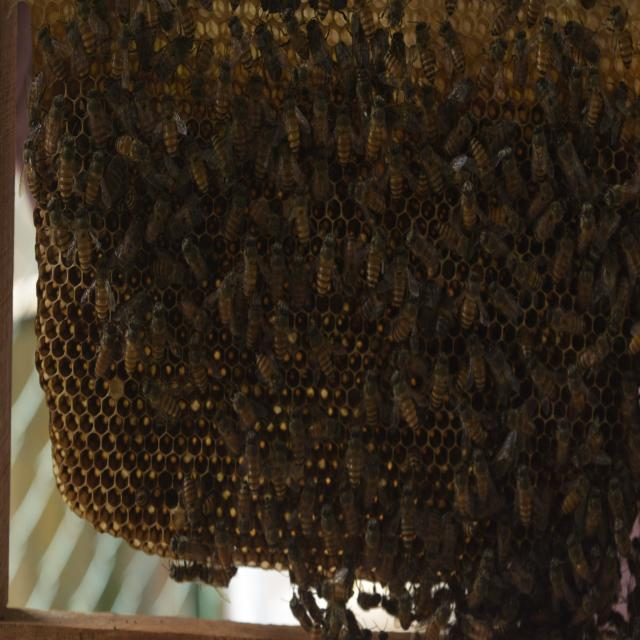honeybee: (176, 225, 212, 288), (103, 17, 141, 76), (97, 304, 118, 410), (283, 409, 314, 479), (558, 125, 592, 188), (183, 322, 214, 391), (82, 138, 113, 206), (455, 394, 490, 453), (392, 219, 434, 268), (119, 198, 155, 255), (226, 385, 263, 438), (20, 136, 46, 211), (299, 329, 340, 375), (88, 73, 116, 140), (608, 8, 638, 70), (610, 192, 633, 272), (174, 475, 210, 525), (111, 78, 141, 137), (253, 354, 295, 396), (284, 65, 330, 103), (224, 12, 252, 74), (337, 90, 359, 168), (357, 239, 389, 292), (211, 513, 241, 569), (564, 13, 592, 73), (520, 120, 551, 174), (542, 296, 586, 334), (462, 124, 494, 175), (160, 88, 182, 162), (391, 367, 416, 432), (62, 18, 90, 76), (270, 442, 296, 504), (243, 186, 278, 232), (507, 243, 541, 290), (545, 546, 569, 612), (207, 131, 238, 182), (480, 334, 511, 385), (82, 267, 114, 316), (491, 192, 523, 241), (213, 54, 236, 122), (180, 138, 214, 184), (476, 40, 506, 92), (136, 396, 174, 436), (381, 34, 412, 83), (151, 296, 172, 368), (61, 131, 79, 214), (559, 336, 590, 384), (499, 142, 525, 199), (546, 409, 578, 455), (490, 424, 518, 476), (595, 555, 621, 611), (272, 292, 294, 358), (349, 182, 383, 224), (179, 0, 210, 46), (307, 21, 340, 64), (384, 160, 411, 212), (509, 457, 532, 518), (458, 162, 478, 232), (316, 222, 334, 298), (578, 261, 607, 308), (560, 526, 584, 582), (258, 23, 282, 79), (392, 483, 414, 544), (158, 44, 191, 84), (570, 420, 610, 453), (218, 196, 251, 236), (235, 229, 258, 286), (556, 462, 578, 521), (361, 358, 379, 430), (495, 606, 533, 640), (485, 5, 519, 43), (412, 153, 435, 209), (314, 517, 339, 568), (538, 177, 562, 230), (253, 505, 278, 555), (309, 145, 336, 191), (276, 98, 304, 142), (459, 273, 485, 320), (428, 291, 454, 338), (41, 105, 62, 163), (34, 17, 55, 75), (232, 486, 254, 540), (61, 224, 98, 256), (467, 349, 492, 396), (244, 284, 262, 349), (263, 238, 290, 281), (287, 606, 321, 640), (214, 260, 232, 324), (512, 22, 528, 94), (393, 299, 418, 345), (116, 137, 144, 178), (432, 220, 459, 262), (27, 65, 47, 121), (488, 508, 509, 561), (582, 475, 597, 549), (449, 466, 472, 514), (573, 592, 598, 636), (245, 431, 263, 492), (172, 528, 210, 556), (440, 30, 462, 78), (163, 565, 205, 590), (380, 574, 401, 624), (388, 247, 409, 297), (531, 9, 545, 82), (347, 432, 367, 483), (606, 305, 628, 351), (438, 508, 457, 561), (312, 92, 332, 142), (294, 178, 310, 240), (126, 309, 141, 375), (321, 597, 344, 640), (520, 346, 546, 384), (244, 88, 273, 122), (413, 98, 438, 137), (271, 136, 289, 190), (476, 542, 492, 602), (430, 150, 459, 183), (318, 576, 352, 604), (584, 75, 601, 131), (474, 454, 494, 501), (606, 462, 622, 520), (431, 368, 454, 408), (283, 552, 304, 595), (406, 591, 434, 623), (416, 37, 437, 78), (436, 589, 458, 628), (618, 261, 634, 314), (298, 494, 318, 536), (361, 511, 382, 551), (612, 530, 634, 568), (150, 181, 162, 250), (278, 19, 308, 46), (478, 238, 514, 260), (353, 613, 382, 640), (212, 570, 244, 594), (163, 206, 205, 224), (258, 131, 274, 178), (303, 580, 325, 614), (625, 587, 639, 639), (196, 44, 208, 104), (580, 188, 591, 252), (629, 306, 640, 370), (371, 85, 383, 143), (552, 237, 566, 285), (438, 0, 462, 27), (357, 0, 369, 51), (352, 304, 388, 320), (384, 0, 406, 26), (354, 582, 378, 604), (611, 75, 620, 131), (444, 116, 460, 136)
